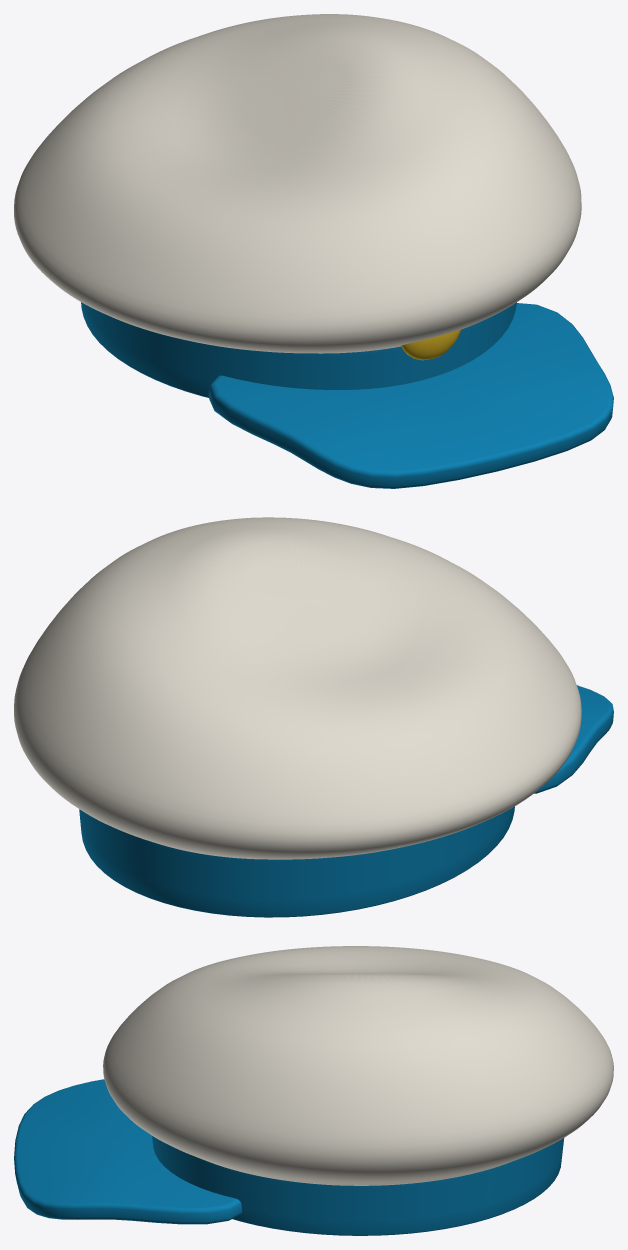
Rendered from sailor_cap.glb.
The picture shows the model from 3 angles, top to bottom: view 1: azimuth 30°, elevation 25°; view 2: azimuth 150°, elevation 25°; view 3: azimuth 270°, elevation 25°; orthographic projection. The views are drawn at different scales.
Visible parts, largest first — view 1: White_soft_crown, Blue_visor, Blue_headband, Gold_badge; view 2: White_soft_crown, Blue_headband, Blue_visor; view 3: White_soft_crown, Blue_visor, Blue_headband.
Boxes of the visible parts, bbox=[...] form: White_soft_crown: bbox=[14, 14, 581, 353]; Blue_visor: bbox=[208, 303, 613, 488]; Blue_headband: bbox=[81, 302, 516, 397]; Gold_badge: bbox=[401, 329, 460, 360]; White_soft_crown: bbox=[14, 517, 581, 859]; Blue_headband: bbox=[79, 806, 514, 917]; Blue_visor: bbox=[534, 685, 613, 793]; White_soft_crown: bbox=[103, 946, 613, 1185]; Blue_visor: bbox=[14, 1079, 242, 1224]; Blue_headband: bbox=[152, 1136, 564, 1235].
Size of the model in its own units: 0.9536 by 0.4936 by 1.21.
